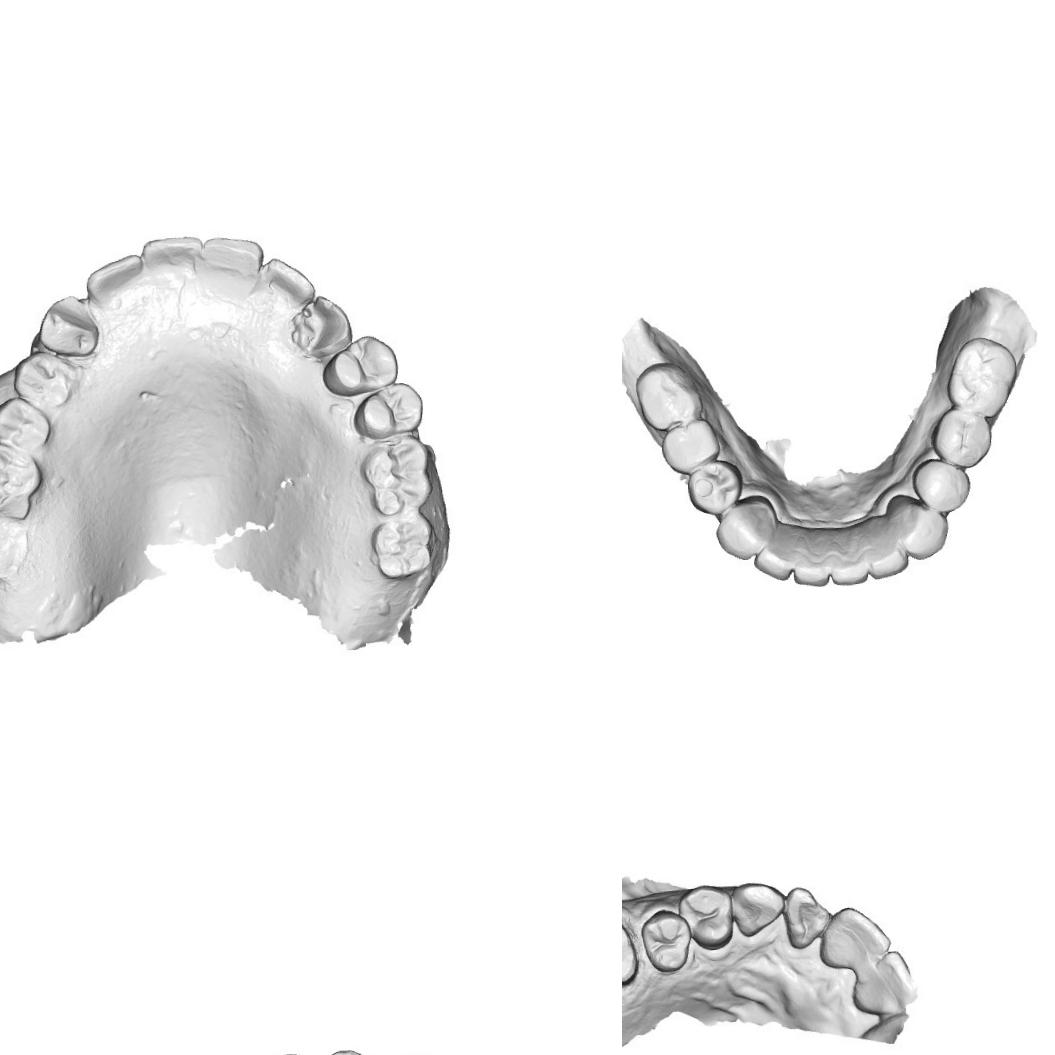canine: (36, 294, 110, 358), (292, 293, 356, 360), (716, 495, 773, 560), (890, 494, 946, 557), (730, 879, 786, 936)
crown: (622, 915, 639, 988)
incisor: (820, 904, 888, 968), (200, 234, 264, 292), (859, 950, 915, 1016), (788, 526, 834, 594), (784, 884, 830, 946), (862, 524, 908, 582), (751, 522, 797, 580), (142, 234, 202, 278), (824, 525, 866, 587), (260, 258, 311, 308), (87, 256, 144, 300)
molar: (361, 436, 430, 512), (948, 336, 1014, 412), (634, 358, 700, 427), (368, 513, 431, 582), (0, 443, 36, 514), (0, 515, 27, 575)
premolar: (352, 382, 426, 440), (680, 883, 736, 954), (638, 906, 690, 976), (934, 404, 995, 463), (11, 348, 72, 406), (330, 336, 392, 388), (686, 459, 740, 512), (662, 419, 718, 469), (915, 456, 966, 508), (0, 395, 46, 448)
